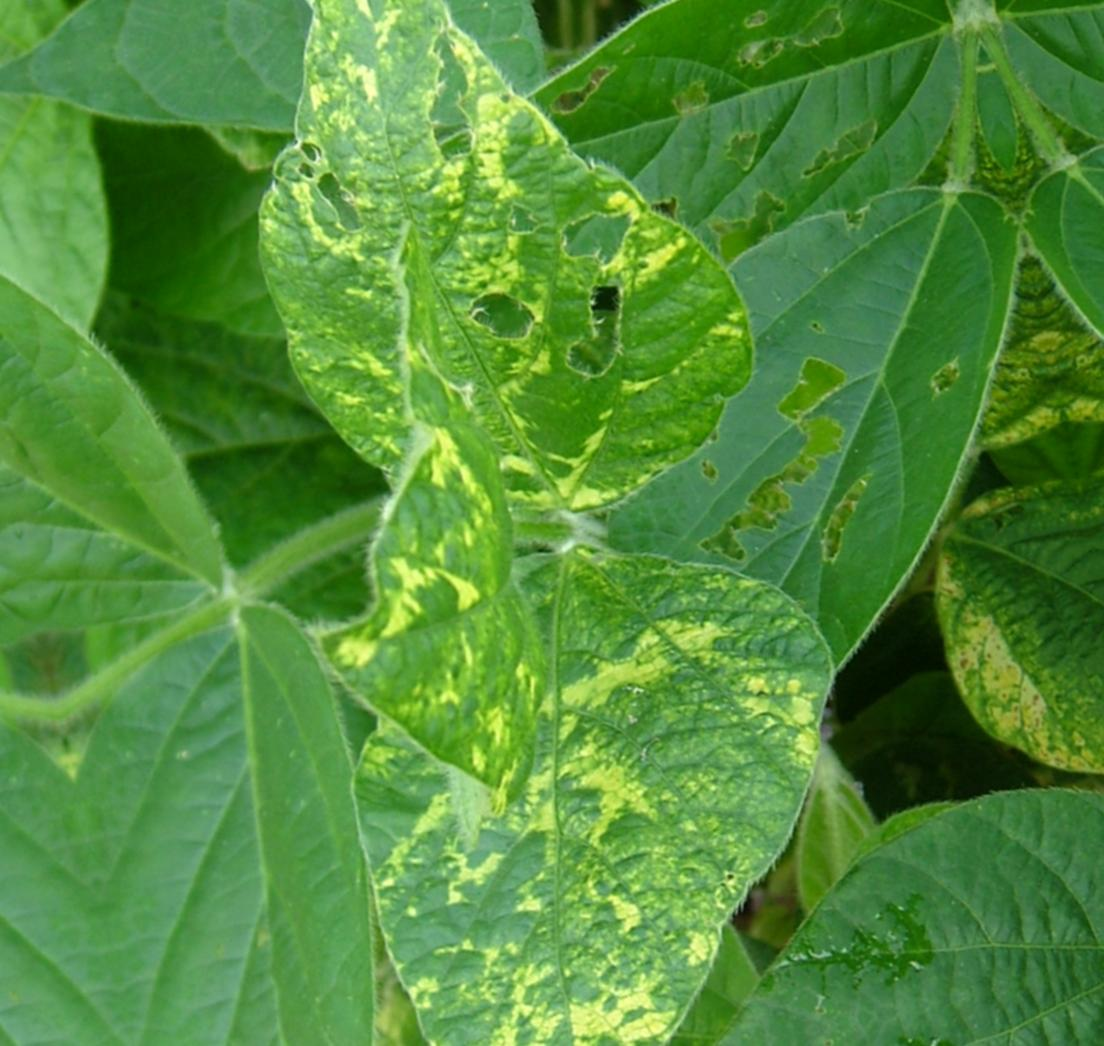Tomato leaf: (44, 589, 435, 1046)
Tomato leaf mosaic virus: (185, 0, 789, 573), (333, 510, 894, 1046)
